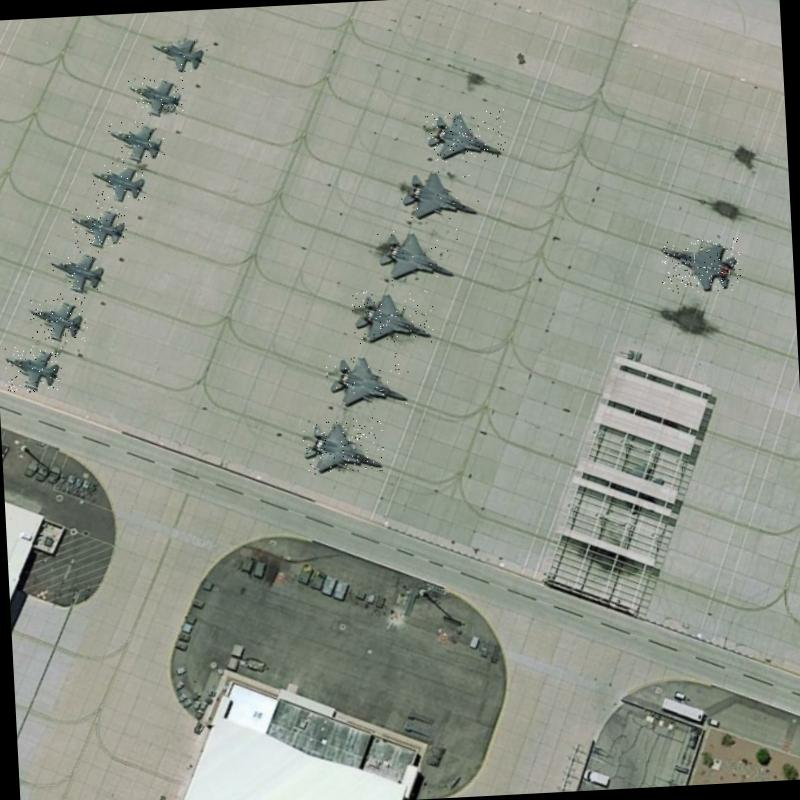A13: (324, 350, 412, 408), (377, 226, 460, 285), (351, 288, 435, 346), (302, 417, 385, 475), (398, 166, 483, 222), (658, 238, 742, 294), (425, 109, 507, 164)
A5: (3, 344, 64, 394), (107, 119, 167, 165), (30, 297, 88, 344), (49, 249, 108, 295), (90, 163, 150, 205), (128, 76, 185, 119), (72, 206, 128, 249), (150, 33, 208, 74)
